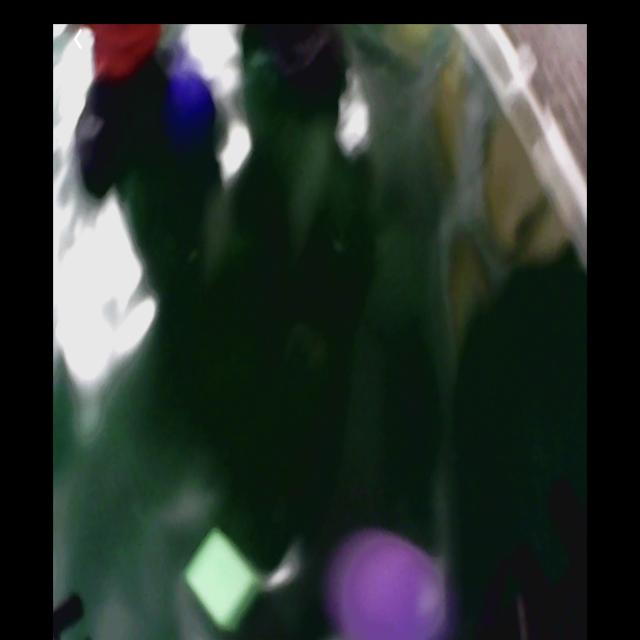ball: (345, 543, 444, 640), (164, 76, 216, 146)
